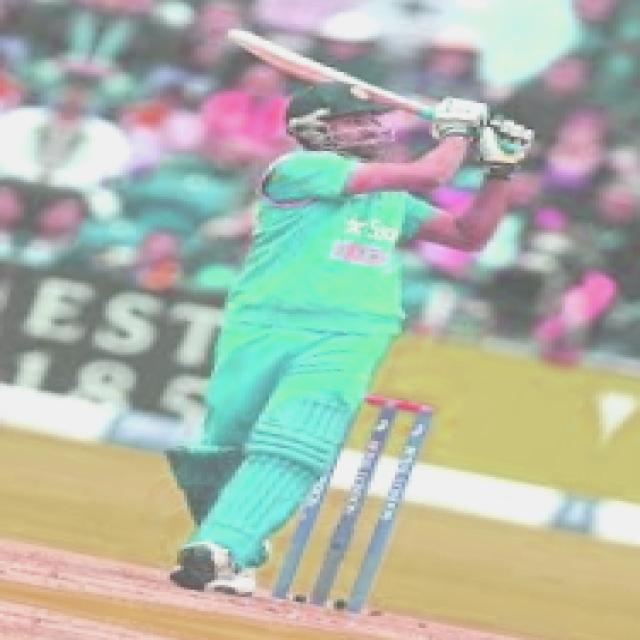toe: (204, 26, 264, 44)
